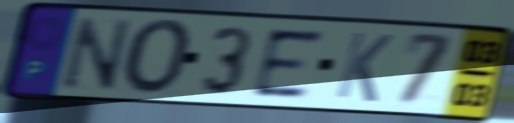3: (198, 25, 253, 97)
7: (397, 30, 459, 109)
E: (251, 27, 327, 99)
K: (332, 29, 397, 106)
N: (59, 14, 135, 92)
O: (120, 17, 196, 99)
